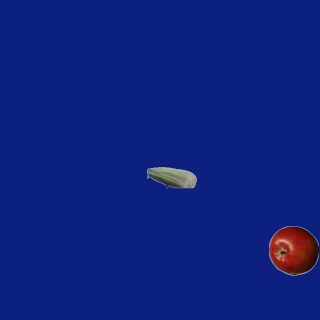Apple Braeburn: (268, 225, 318, 275)
Corn Husk: (146, 152, 196, 202)
